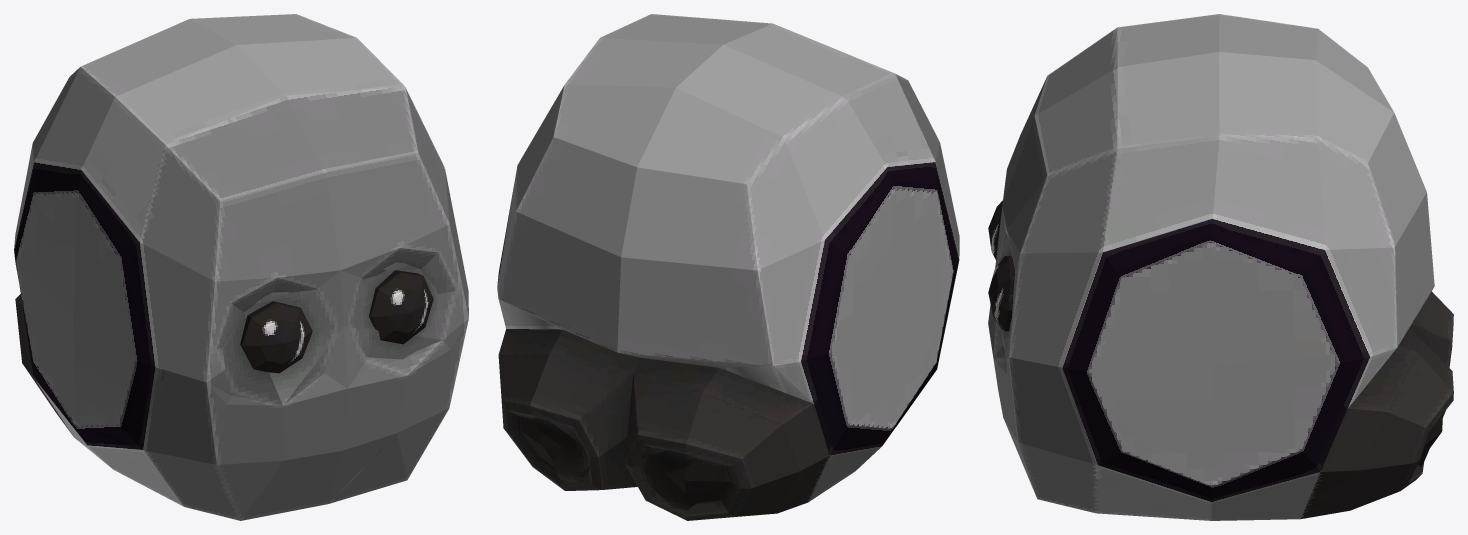
Rendered from item_robot_head.glb.
3 views of the same model, side by side, from view 1: azimuth 30°, elevation 25°; view 2: azimuth 150°, elevation 25°; view 3: azimuth 270°, elevation 25° (orthographic). The views are drawn at different scales.
Parts seen in each view (by area): view 1: Speaker; view 2: Speaker; view 3: Speaker.
Boxes of the visible parts, bbox=[...] form: Speaker: bbox=[14, 14, 468, 520]; Speaker: bbox=[497, 14, 959, 520]; Speaker: bbox=[988, 14, 1453, 520].
Bounding box in the file's own units: 0.1999 × 0.2262 × 0.2354.
1 material, 1 textured.
